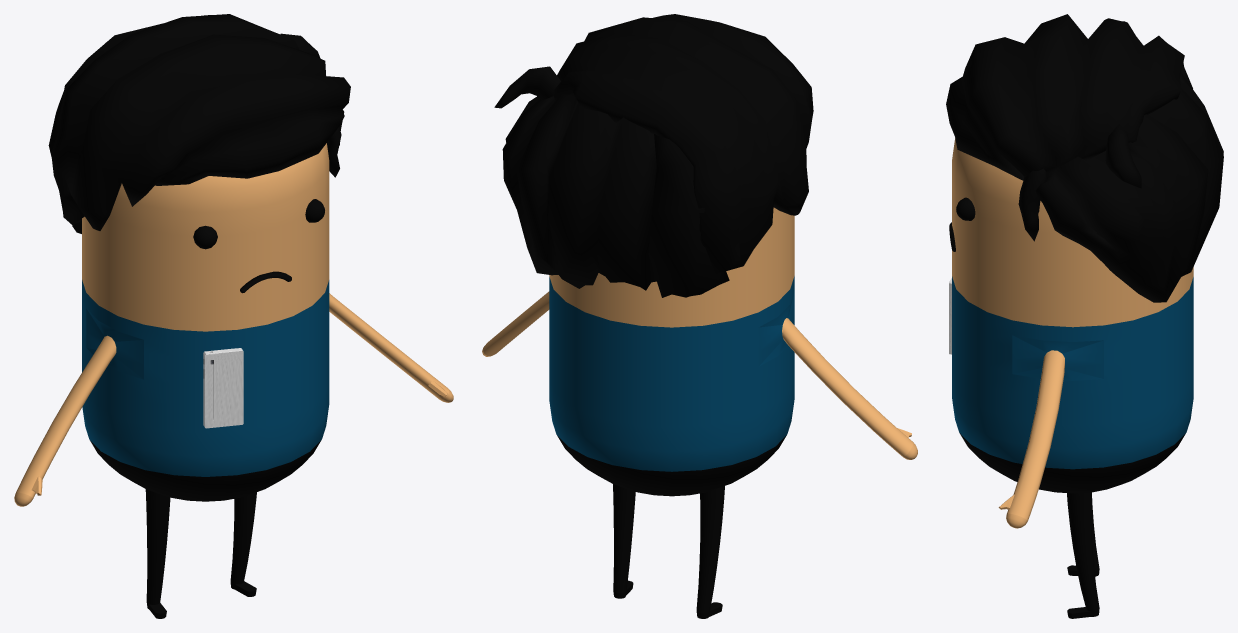
File: hombre1.fbx
3 renders of one model, left to right at view 1: azimuth 30°, elevation 25°; view 2: azimuth 150°, elevation 25°; view 3: azimuth 270°, elevation 25°, orthographic. The views are drawn at different scales.
Visible parts, largest first — view 1: Mesh1; view 2: Mesh1; view 3: Mesh1.
Boxes of the visible parts, <box> form: Mesh1: <box>14,14,453,618</box>; Mesh1: <box>482,14,917,618</box>; Mesh1: <box>946,14,1223,618</box>.
Size of the model in its own units: 1.4 by 1.76 by 0.7901.
7 materials, 4 textured.
